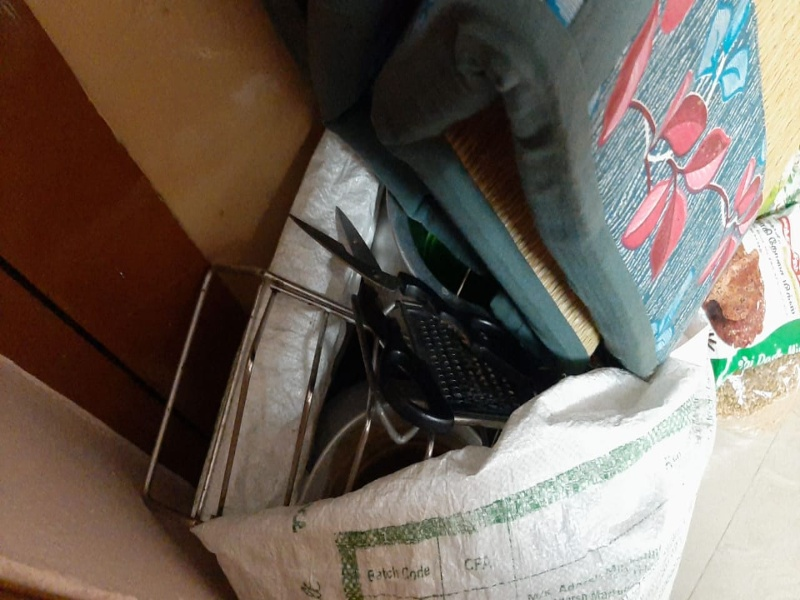scissor: (274, 192, 503, 416)
